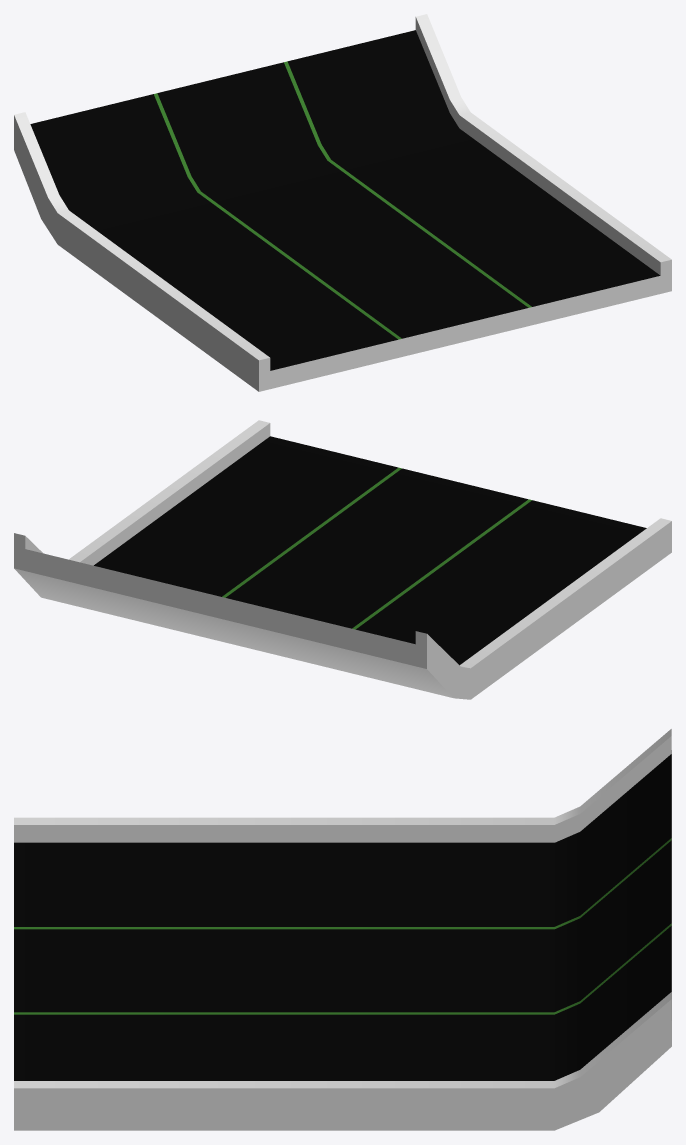
The model's file is SkeeBallRamp.fbx.
The picture shows the model from 3 angles, top to bottom: view 1: azimuth 30°, elevation 25°; view 2: azimuth 150°, elevation 25°; view 3: azimuth 270°, elevation 25°; orthographic projection. The views are drawn at different scales.
Visible parts, largest first — view 1: Cube.005; view 2: Cube.005; view 3: Cube.005.
Part boxes in pixels (x1=…): Cube.005: x1=14, y1=14, x2=671, y2=391; Cube.005: x1=14, y1=420, x2=671, y2=699; Cube.005: x1=14, y1=729, x2=671, y2=1130.
Size of the model in its own units: 2370 by 537 by 2434.
